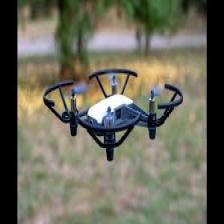drone: (44, 66, 183, 160)
